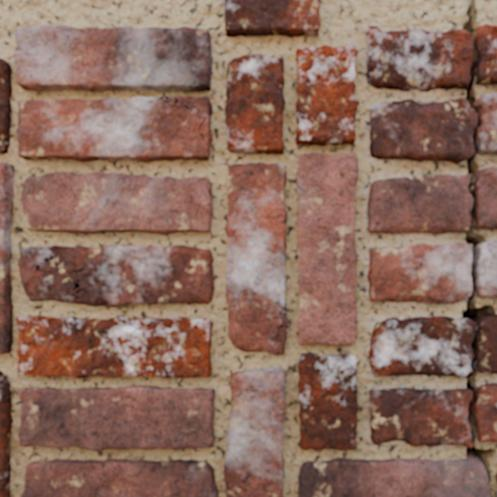brick: (14, 26, 211, 91), (19, 386, 213, 450), (17, 97, 211, 161), (16, 316, 211, 377), (18, 245, 213, 306), (225, 163, 286, 354), (22, 172, 212, 233), (297, 153, 357, 344), (224, 368, 285, 496), (21, 459, 217, 496), (298, 458, 488, 496), (296, 46, 356, 145), (225, 54, 284, 153), (298, 352, 357, 449), (224, 0, 318, 36), (0, 163, 13, 352), (0, 372, 11, 496), (0, 59, 10, 153), (177, 97, 211, 117)
broken_brick: (365, 25, 472, 92), (369, 97, 475, 163), (368, 315, 473, 378), (366, 242, 470, 304), (367, 173, 470, 234), (369, 387, 471, 447), (476, 23, 496, 85), (478, 166, 496, 229), (478, 92, 496, 155), (478, 382, 496, 443), (478, 315, 496, 374), (478, 239, 496, 297)
crack: (461, 0, 496, 496), (155, 95, 210, 139), (273, 300, 286, 346), (225, 25, 243, 29), (489, 436, 492, 441)
